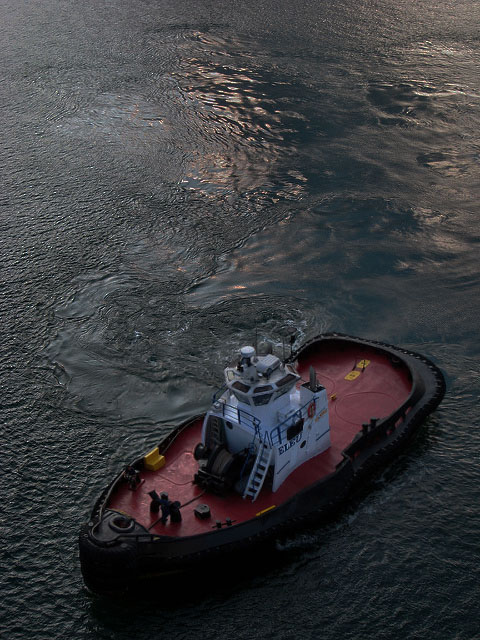tug_boat: (72, 325, 452, 606)
